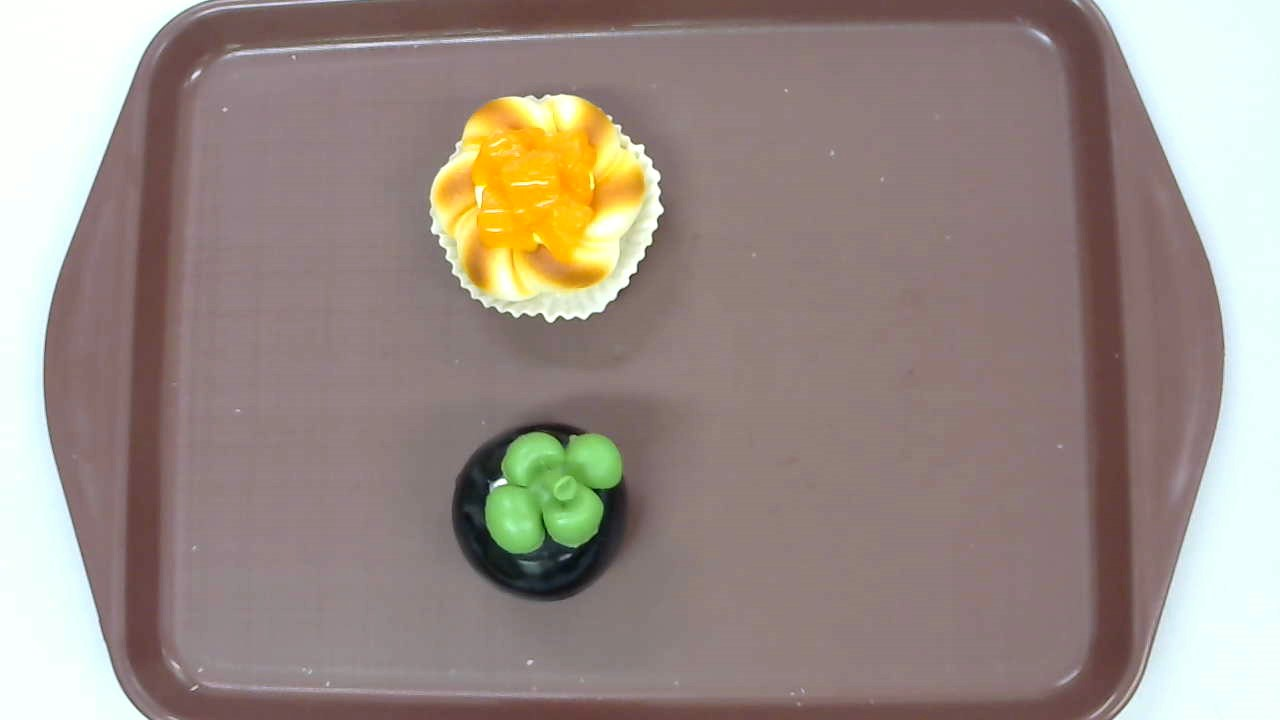mango tart: (428, 93, 666, 324)
mangosteen: (451, 422, 628, 605)
